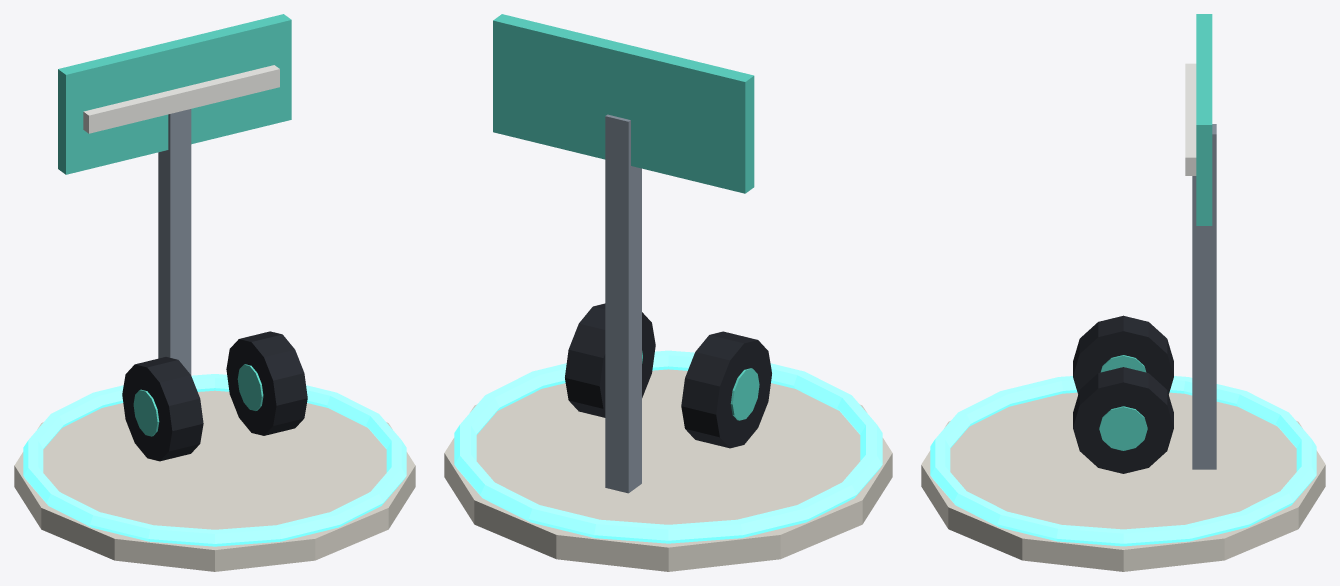
File: pickup-casters.glb
The picture shows the model from 3 angles, left to right: view 1: azimuth 30°, elevation 25°; view 2: azimuth 150°, elevation 25°; view 3: azimuth 270°, elevation 25°; orthographic projection. The views are drawn at different scales.
Visible parts, largest first — view 1: pickup-casters; view 2: pickup-casters; view 3: pickup-casters.
Boxes of the visible parts, x1,y1,x2,y2 form: pickup-casters: (14,14,415,571); pickup-casters: (444,14,892,571); pickup-casters: (921,14,1325,571).
Bounding box in the file's own units: 2 × 2.28 × 2.
